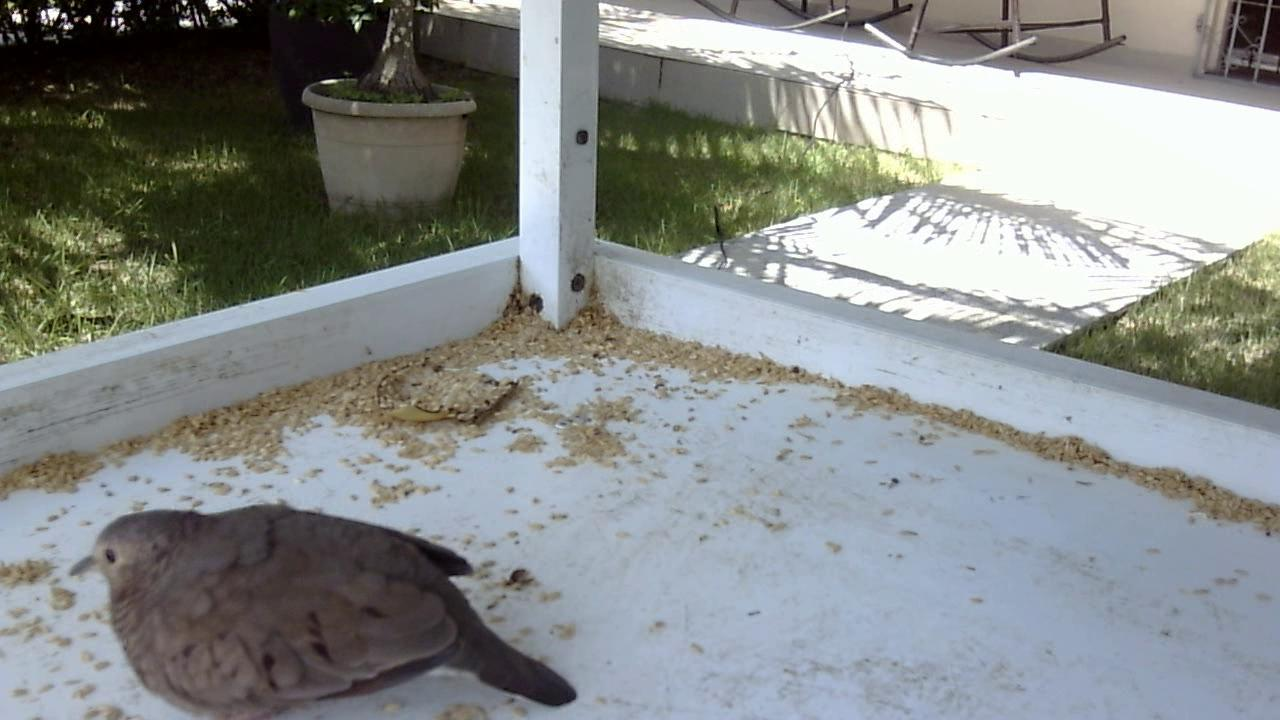rolinha: (64, 491, 600, 718)
